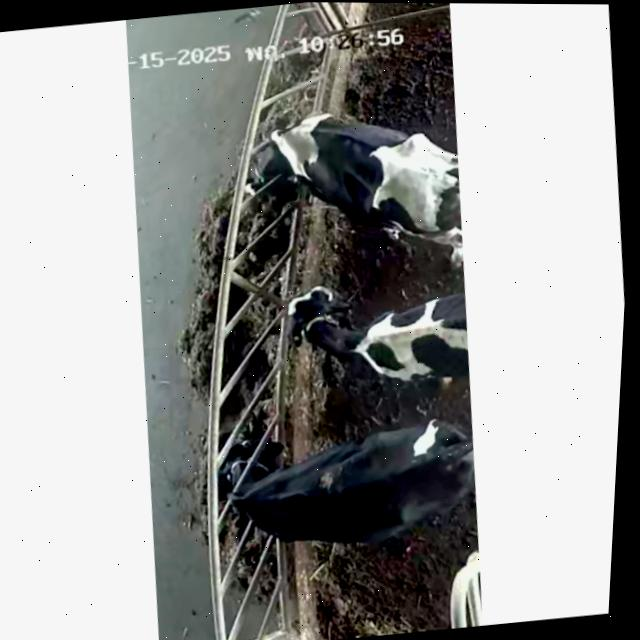eat: (164, 410, 351, 564), (174, 86, 385, 219)
